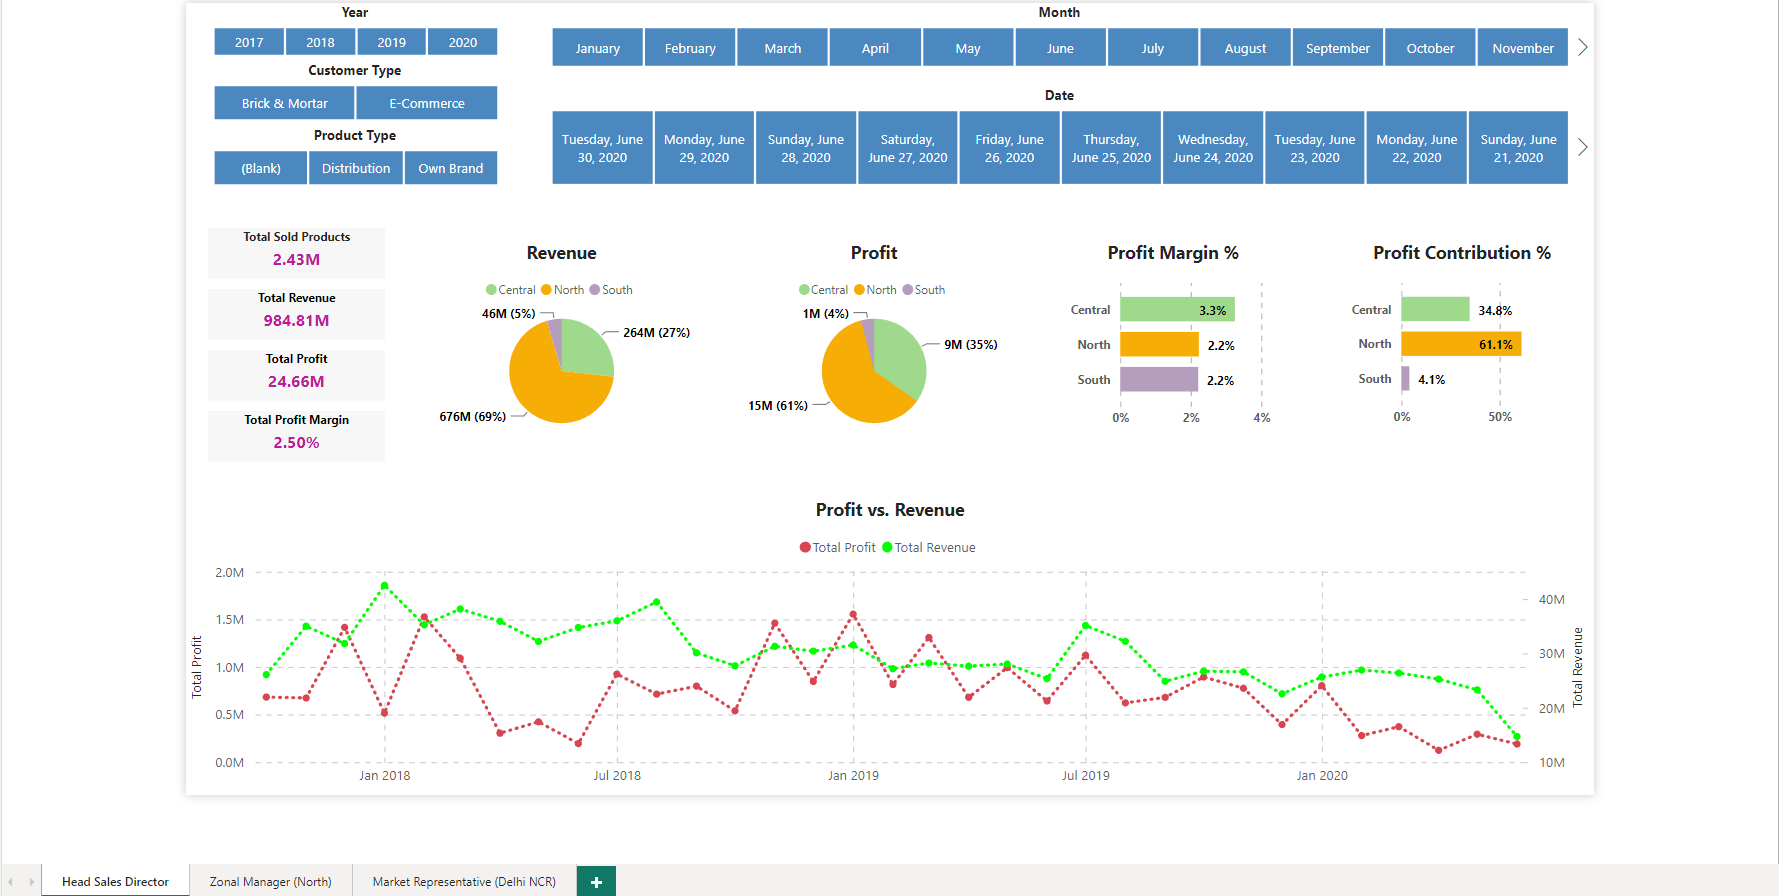

The dashboard page shown, as its layout file describes it:
{"tool":"powerbi","page":{"name":"Head Sales Director","canvas":[1280,720],"ordinal":0},"visuals":[{"type":"lineChart","title":"Profit  vs.  Revenue","fields":{"Y2":["Base Measures.Total Revenue"],"Category":["sales insights of mg date.cy_date.Variation.Date Hierarchy.Year","sales insights of mg date.cy_date.Variation.Date Hierarchy.Quarter","sales insights of mg date.cy_date.Variation.Date Hierarchy.Month","sales insights of mg date.cy_date.Variation.Date Hierarchy.Day"],"Y":["Base Measures.Total Profit"]},"box":[0,449.1,1280,270.9],"z":0},{"type":"slicer","title":"Month","fields":{"Values":["sales insights of mg date.month_name"]},"box":[306.9,0,973.4,64],"z":4000},{"type":"card","title":"Total Revenue","fields":{"Values":["Base Measures.Total Revenue"]},"box":[20,260.1,161.1,45.6],"z":5000},{"type":"card","title":"Total Sold Products","fields":{"Values":["Base Measures.Total Sales Quantity"]},"box":[20,204.4,161.1,45.6],"z":6000},{"type":"card","title":"Total Profit","fields":{"Values":["Base Measures.Total Profit"]},"box":[20,315.6,161.1,45.6],"z":7000},{"type":"slicer","title":"Year","fields":{"Values":["sales insights of mg date.year"]},"box":[0,0,307.1,53.4],"z":8000},{"type":"slicer","title":"Customer Type","fields":{"Values":["sales insights of mg customers.customer_type"]},"box":[0,52.6,306.9,59.6],"z":9000},{"type":"slicer","title":"Product Type","fields":{"Values":["sales insights of mg products.product_type"]},"box":[0,112.3,306.9,59.6],"z":10000},{"type":"pieChart","title":"Revenue","fields":{"Category":["sales insights of mg markets.zone"],"Y":["Base Measures.Total Revenue"]},"box":[200,215.7,282.7,180],"z":11000},{"type":"pieChart","title":"Profit","fields":{"Category":["sales insights of mg markets.zone"],"Y":["Base Measures.Total Profit"]},"box":[483.6,215.7,283.6,180],"z":12000},{"type":"clusteredBarChart","title":"Profit Margin %","fields":{"Category":["sales insights of mg markets.zone"],"Y":["Base Measures.Total Profit Margin Percentage"]},"box":[797.3,215.7,200,180],"z":13000},{"type":"clusteredBarChart","title":"Profit Contribution %","fields":{"Category":["sales insights of mg markets.zone"],"Y":["Base Measures.Profit Margin Contribution"]},"box":[1052.7,215.7,214.5,179.1],"z":14000},{"type":"card","title":"Total Profit Margin","fields":{"Values":["Base Measures.Total Profit Margin Percentage"]},"box":[20,371.1,161.1,45.6],"z":15000},{"type":"slicer","title":"Date","fields":{"Values":["sales insights of mg date.date"]},"box":[306.9,75.4,973.4,96.5],"z":16000}]}

Visuals, with their boxes on the page's 1280x720 design canvas (x1, y1, x2, y2). These are canvas units, not pixel positions in the 1779x896 screenshot, which may show the page scaled, cropped or inside an application window:
"Profit  vs.  Revenue" lineChart: detection(0, 449, 1280, 720)
"Month" slicer: detection(307, 0, 1280, 64)
"Total Revenue" card: detection(20, 260, 181, 306)
"Total Sold Products" card: detection(20, 204, 181, 250)
"Total Profit" card: detection(20, 316, 181, 361)
"Year" slicer: detection(0, 0, 307, 53)
"Customer Type" slicer: detection(0, 53, 307, 112)
"Product Type" slicer: detection(0, 112, 307, 172)
"Revenue" pieChart: detection(200, 216, 483, 396)
"Profit" pieChart: detection(484, 216, 767, 396)
"Profit Margin %" clusteredBarChart: detection(797, 216, 997, 396)
"Profit Contribution %" clusteredBarChart: detection(1053, 216, 1267, 395)
"Total Profit Margin" card: detection(20, 371, 181, 417)
"Date" slicer: detection(307, 75, 1280, 172)
